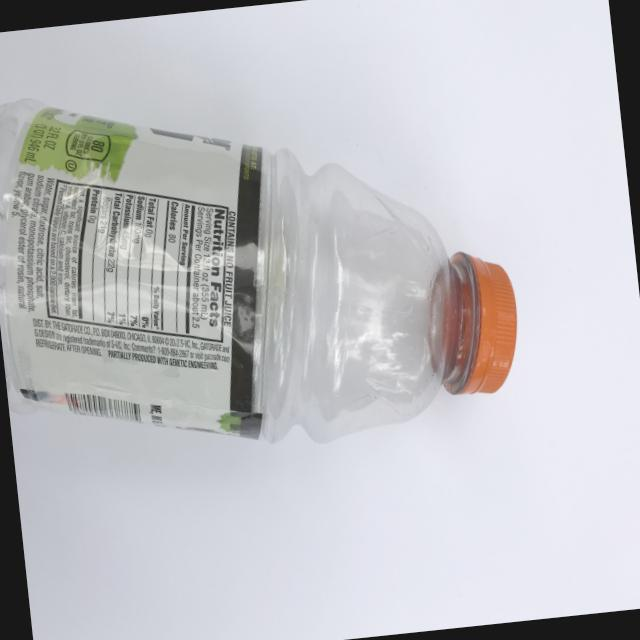Plastic: (0, 45, 552, 490)
